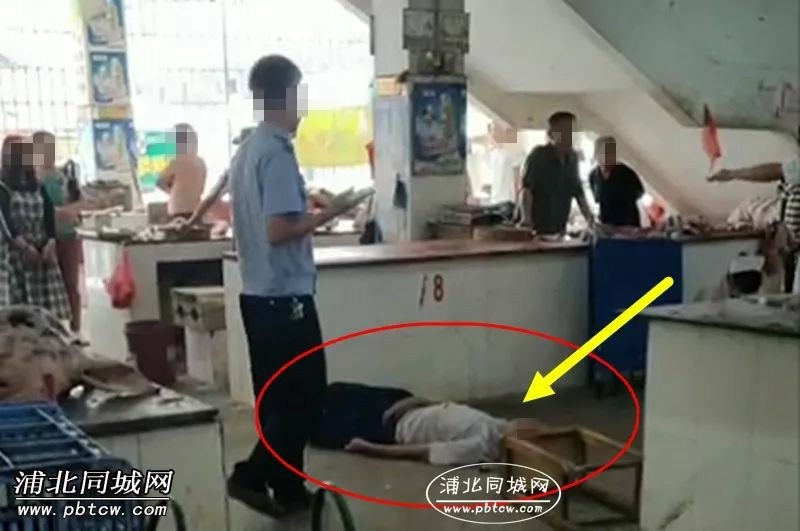falling: (271, 368, 538, 480)
